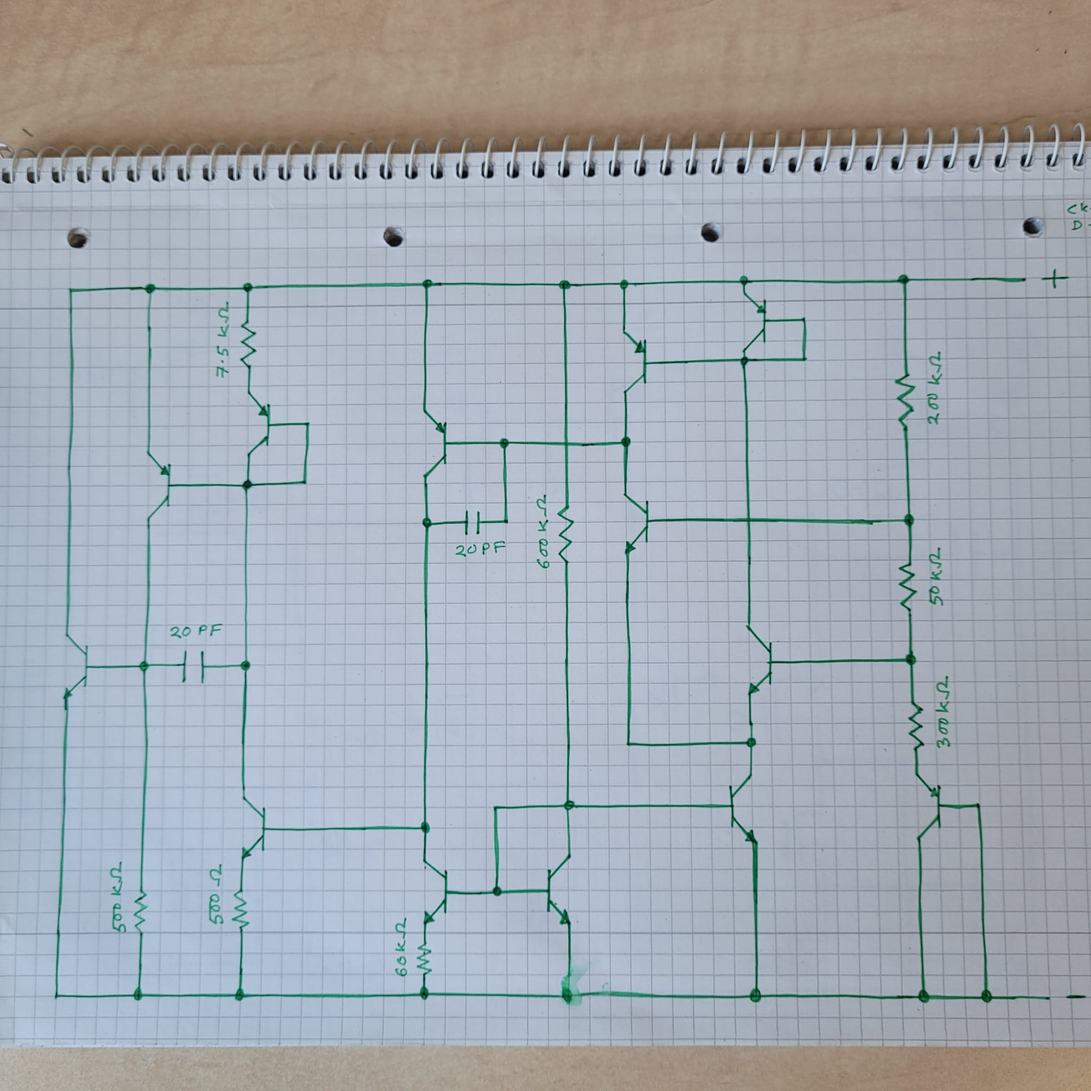capacitor.unpolarized: (179, 646, 209, 686), (461, 507, 484, 539)
crossover: (559, 436, 573, 451), (742, 513, 756, 527)
junction: (556, 973, 583, 1007), (746, 986, 766, 1005), (978, 987, 997, 1006), (899, 511, 918, 530), (915, 987, 933, 1005), (901, 650, 919, 667), (734, 273, 754, 288), (488, 883, 505, 900), (239, 279, 255, 296), (136, 658, 152, 674), (239, 477, 255, 493), (897, 272, 913, 288), (743, 734, 759, 750), (237, 656, 253, 672), (417, 986, 433, 1002), (561, 797, 577, 813), (232, 987, 248, 1003), (556, 278, 573, 293), (418, 819, 433, 835), (618, 434, 633, 450), (131, 987, 146, 1003), (616, 276, 632, 291), (419, 276, 435, 291), (737, 352, 752, 368), (496, 435, 511, 450), (143, 281, 158, 296), (420, 515, 435, 530), (64, 282, 78, 297), (622, 737, 635, 751), (298, 474, 311, 488), (972, 799, 985, 812), (798, 352, 811, 365), (490, 801, 502, 814), (50, 990, 62, 1002), (798, 314, 810, 326), (301, 418, 313, 429), (501, 515, 511, 527)
resistor: (892, 370, 919, 429), (894, 558, 920, 616), (234, 317, 261, 371), (905, 697, 929, 753), (556, 503, 576, 564), (129, 888, 151, 934), (229, 886, 251, 931), (413, 939, 435, 979)
terminal: (1017, 273, 1030, 287), (1043, 991, 1055, 1004)
text: (932, 673, 953, 751), (923, 349, 943, 429), (213, 300, 232, 381), (533, 491, 551, 569), (108, 858, 126, 934), (924, 546, 945, 608), (390, 917, 410, 979), (206, 862, 225, 926), (169, 620, 225, 641), (454, 539, 506, 559), (1038, 266, 1071, 291), (1062, 990, 1090, 1004)
transistor.bjt: (55, 631, 97, 707), (614, 328, 658, 398), (906, 770, 948, 843), (739, 623, 777, 700), (417, 406, 454, 485), (140, 449, 179, 523), (542, 850, 576, 927), (619, 491, 657, 559), (241, 393, 279, 461), (725, 772, 761, 843), (234, 796, 273, 860), (418, 858, 454, 926), (735, 294, 770, 351)
